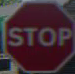Stop: (5, 4, 72, 64)
